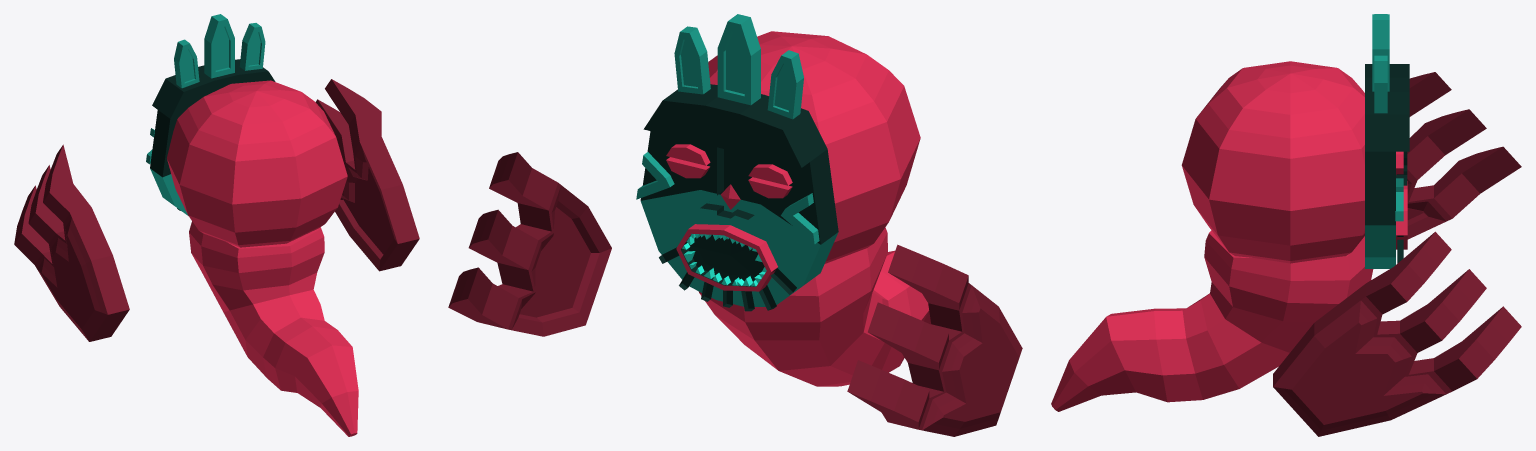
Rendered from LargeGhost.fbx.
3 renders of one model, left to right at view 1: azimuth 30°, elevation 25°; view 2: azimuth 150°, elevation 25°; view 3: azimuth 270°, elevation 25°, orthographic. The views are drawn at different scales.
Visible parts, largest first — view 1: Ghost_Head.002, Ghost_Tail.002, GHost_Claw_L.002, Ghost_Claw_R.002, Ghost_Mask_Big_Base; view 2: Ghost_Mask_Big_Base, GHost_Claw_L.002, Ghost_Head.002, Ghost_Claw_R.002, Ghost_Tail.002; view 3: Ghost_Head.002, Ghost_Tail.002, Ghost_Claw_R.002, Ghost_Mask_Big_Base, GHost_Claw_L.002.
Boxes of the visible parts, left/top/right/bottom form: Ghost_Head.002: left=167, top=80, right=347, bottom=247; Ghost_Tail.002: left=189, top=221, right=358, bottom=436; GHost_Claw_L.002: left=14, top=144, right=129, bottom=341; Ghost_Claw_R.002: left=315, top=79, right=419, bottom=271; Ghost_Mask_Big_Base: left=146, top=14, right=275, bottom=215; Ghost_Mask_Big_Base: left=636, top=14, right=838, bottom=311; GHost_Claw_L.002: left=847, top=244, right=1022, bottom=436; Ghost_Head.002: left=708, top=31, right=920, bottom=263; Ghost_Claw_R.002: left=448, top=152, right=611, bottom=336; Ghost_Tail.002: left=698, top=227, right=930, bottom=386; Ghost_Head.002: left=1181, top=61, right=1396, bottom=263; Ghost_Tail.002: left=1051, top=230, right=1373, bottom=411; Ghost_Claw_R.002: left=1273, top=231, right=1521, bottom=436; Ghost_Mask_Big_Base: left=1365, top=14, right=1409, bottom=268; GHost_Claw_L.002: left=1407, top=72, right=1521, bottom=239.
Size of the model in its own units: 367 by 341 by 369.
